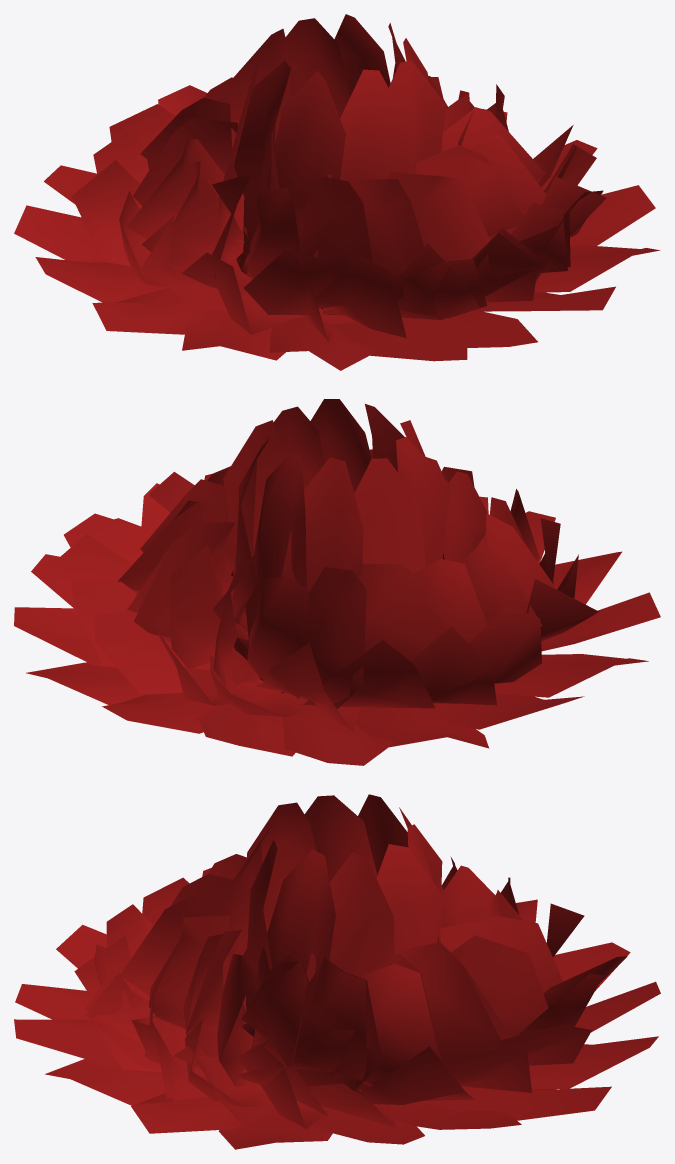
Rendered from bush01.fbx.
3 views of the same model, one above another, from view 1: azimuth 30°, elevation 25°; view 2: azimuth 150°, elevation 25°; view 3: azimuth 270°, elevation 25° (orthographic).
Parts seen in each view (by area): view 1: grass00.004; view 2: grass00.004; view 3: grass00.004.
Boxes of the visible parts, <box> form: grass00.004: <box>14,14,660,370</box>; grass00.004: <box>14,399,660,765</box>; grass00.004: <box>14,794,660,1149</box>.
Size of the model in its own units: 120 by 49.31 by 122.
